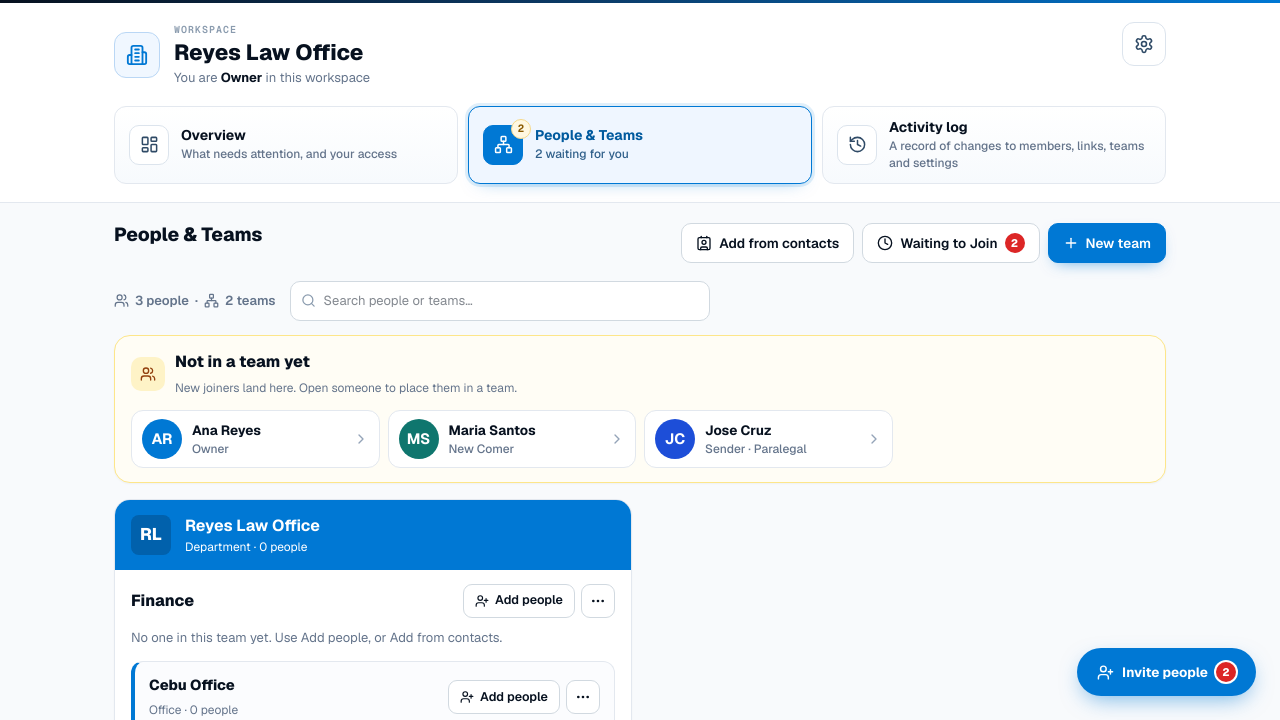
Workspace shell — Invite people › is one button at the lower right, opening email invitations, join links and requests
Check: the text with test id "invite-people-pending" reads "2", box [1222,665,1230,679]
Click the button with test id "invite-people-toggle".
click(1167, 672)  # box [1077,648,1256,696]
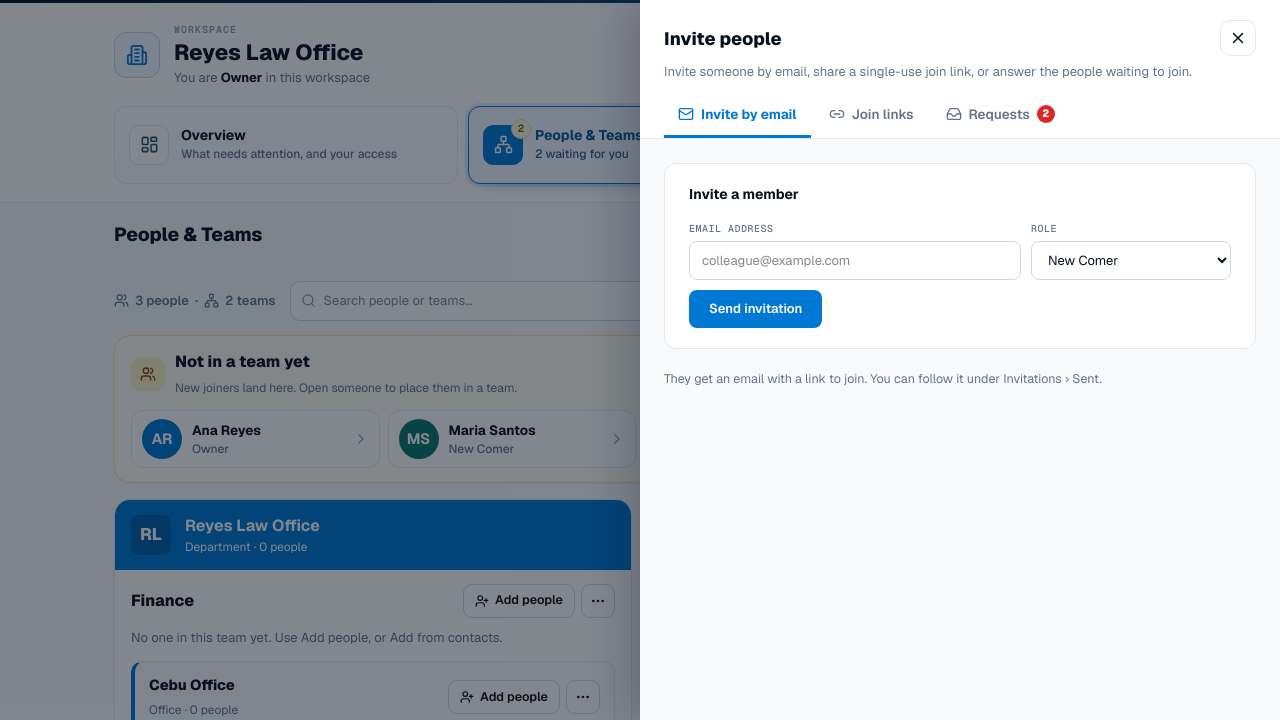
Click the tab with test id "invite-tab-links".
click(871, 116)  # box [814,94,928,138]
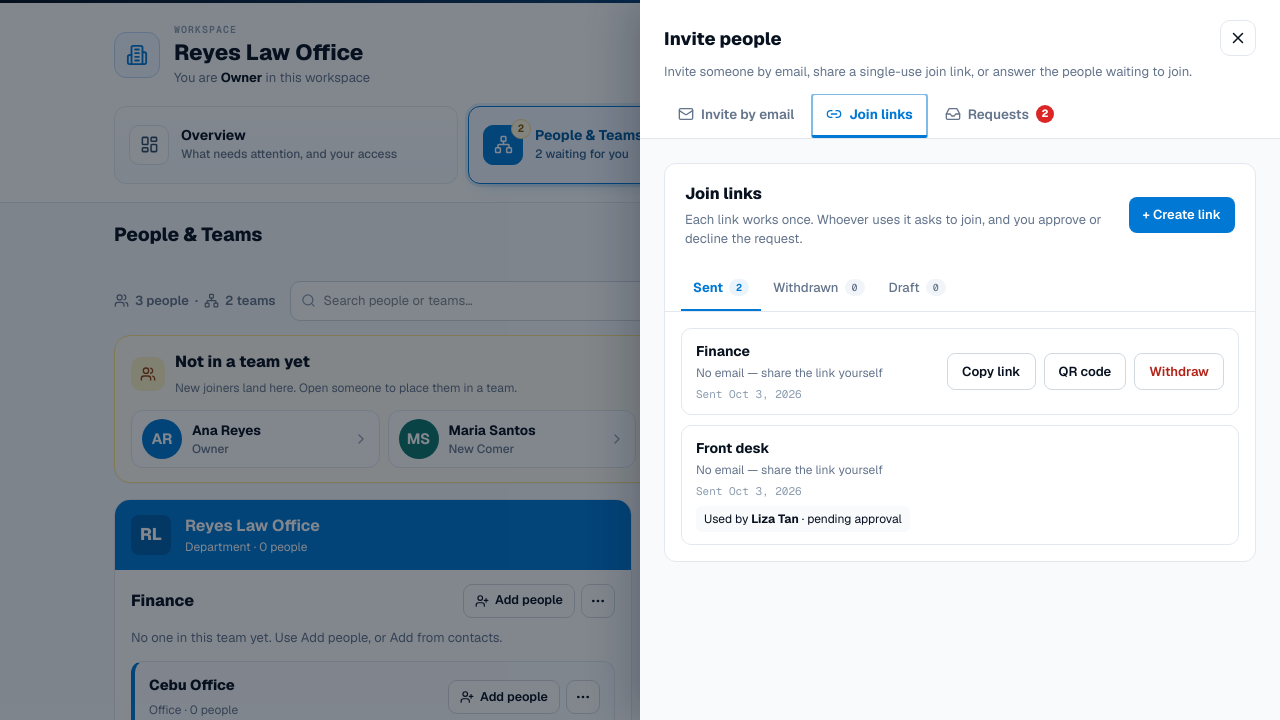
Check: the element with test id "join-links-section" is shown, box [664,162,1256,562]
Click the tab with test id "invite-tab-requests".
click(999, 116)  # box [931,94,1068,138]
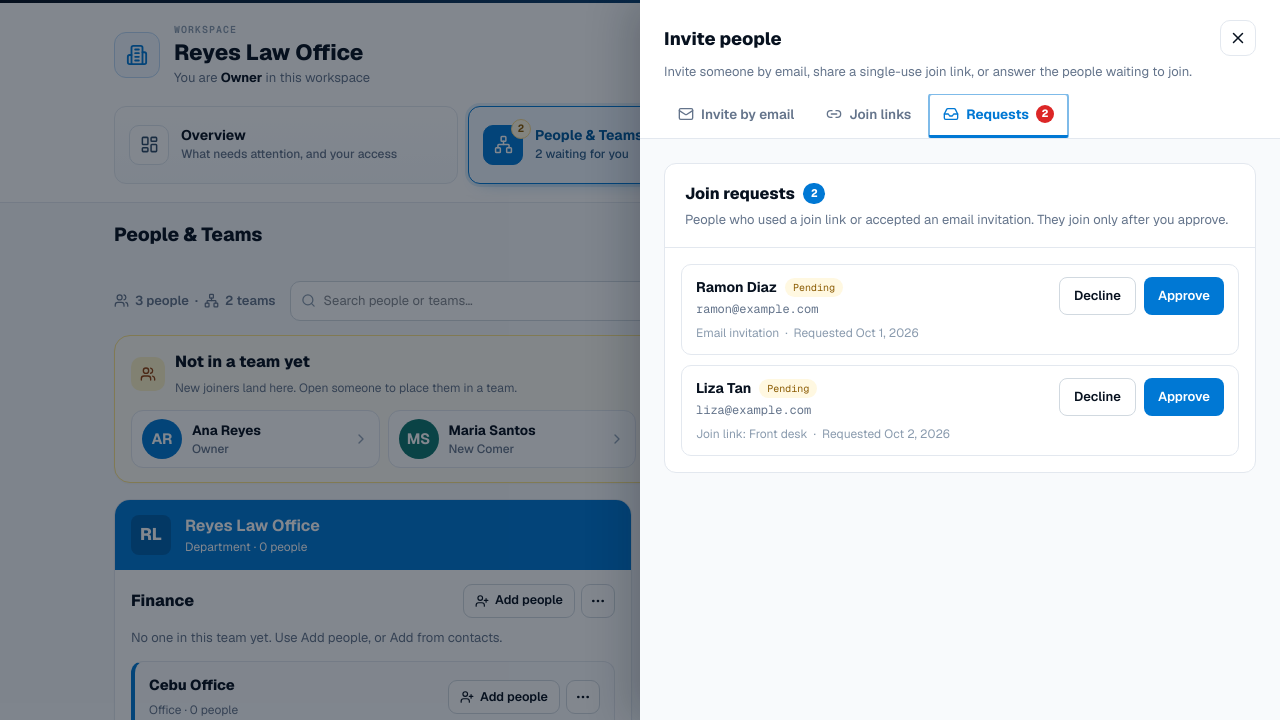
Check: the element with test id "join-requests-section" is shown, box [664,162,1256,473]
